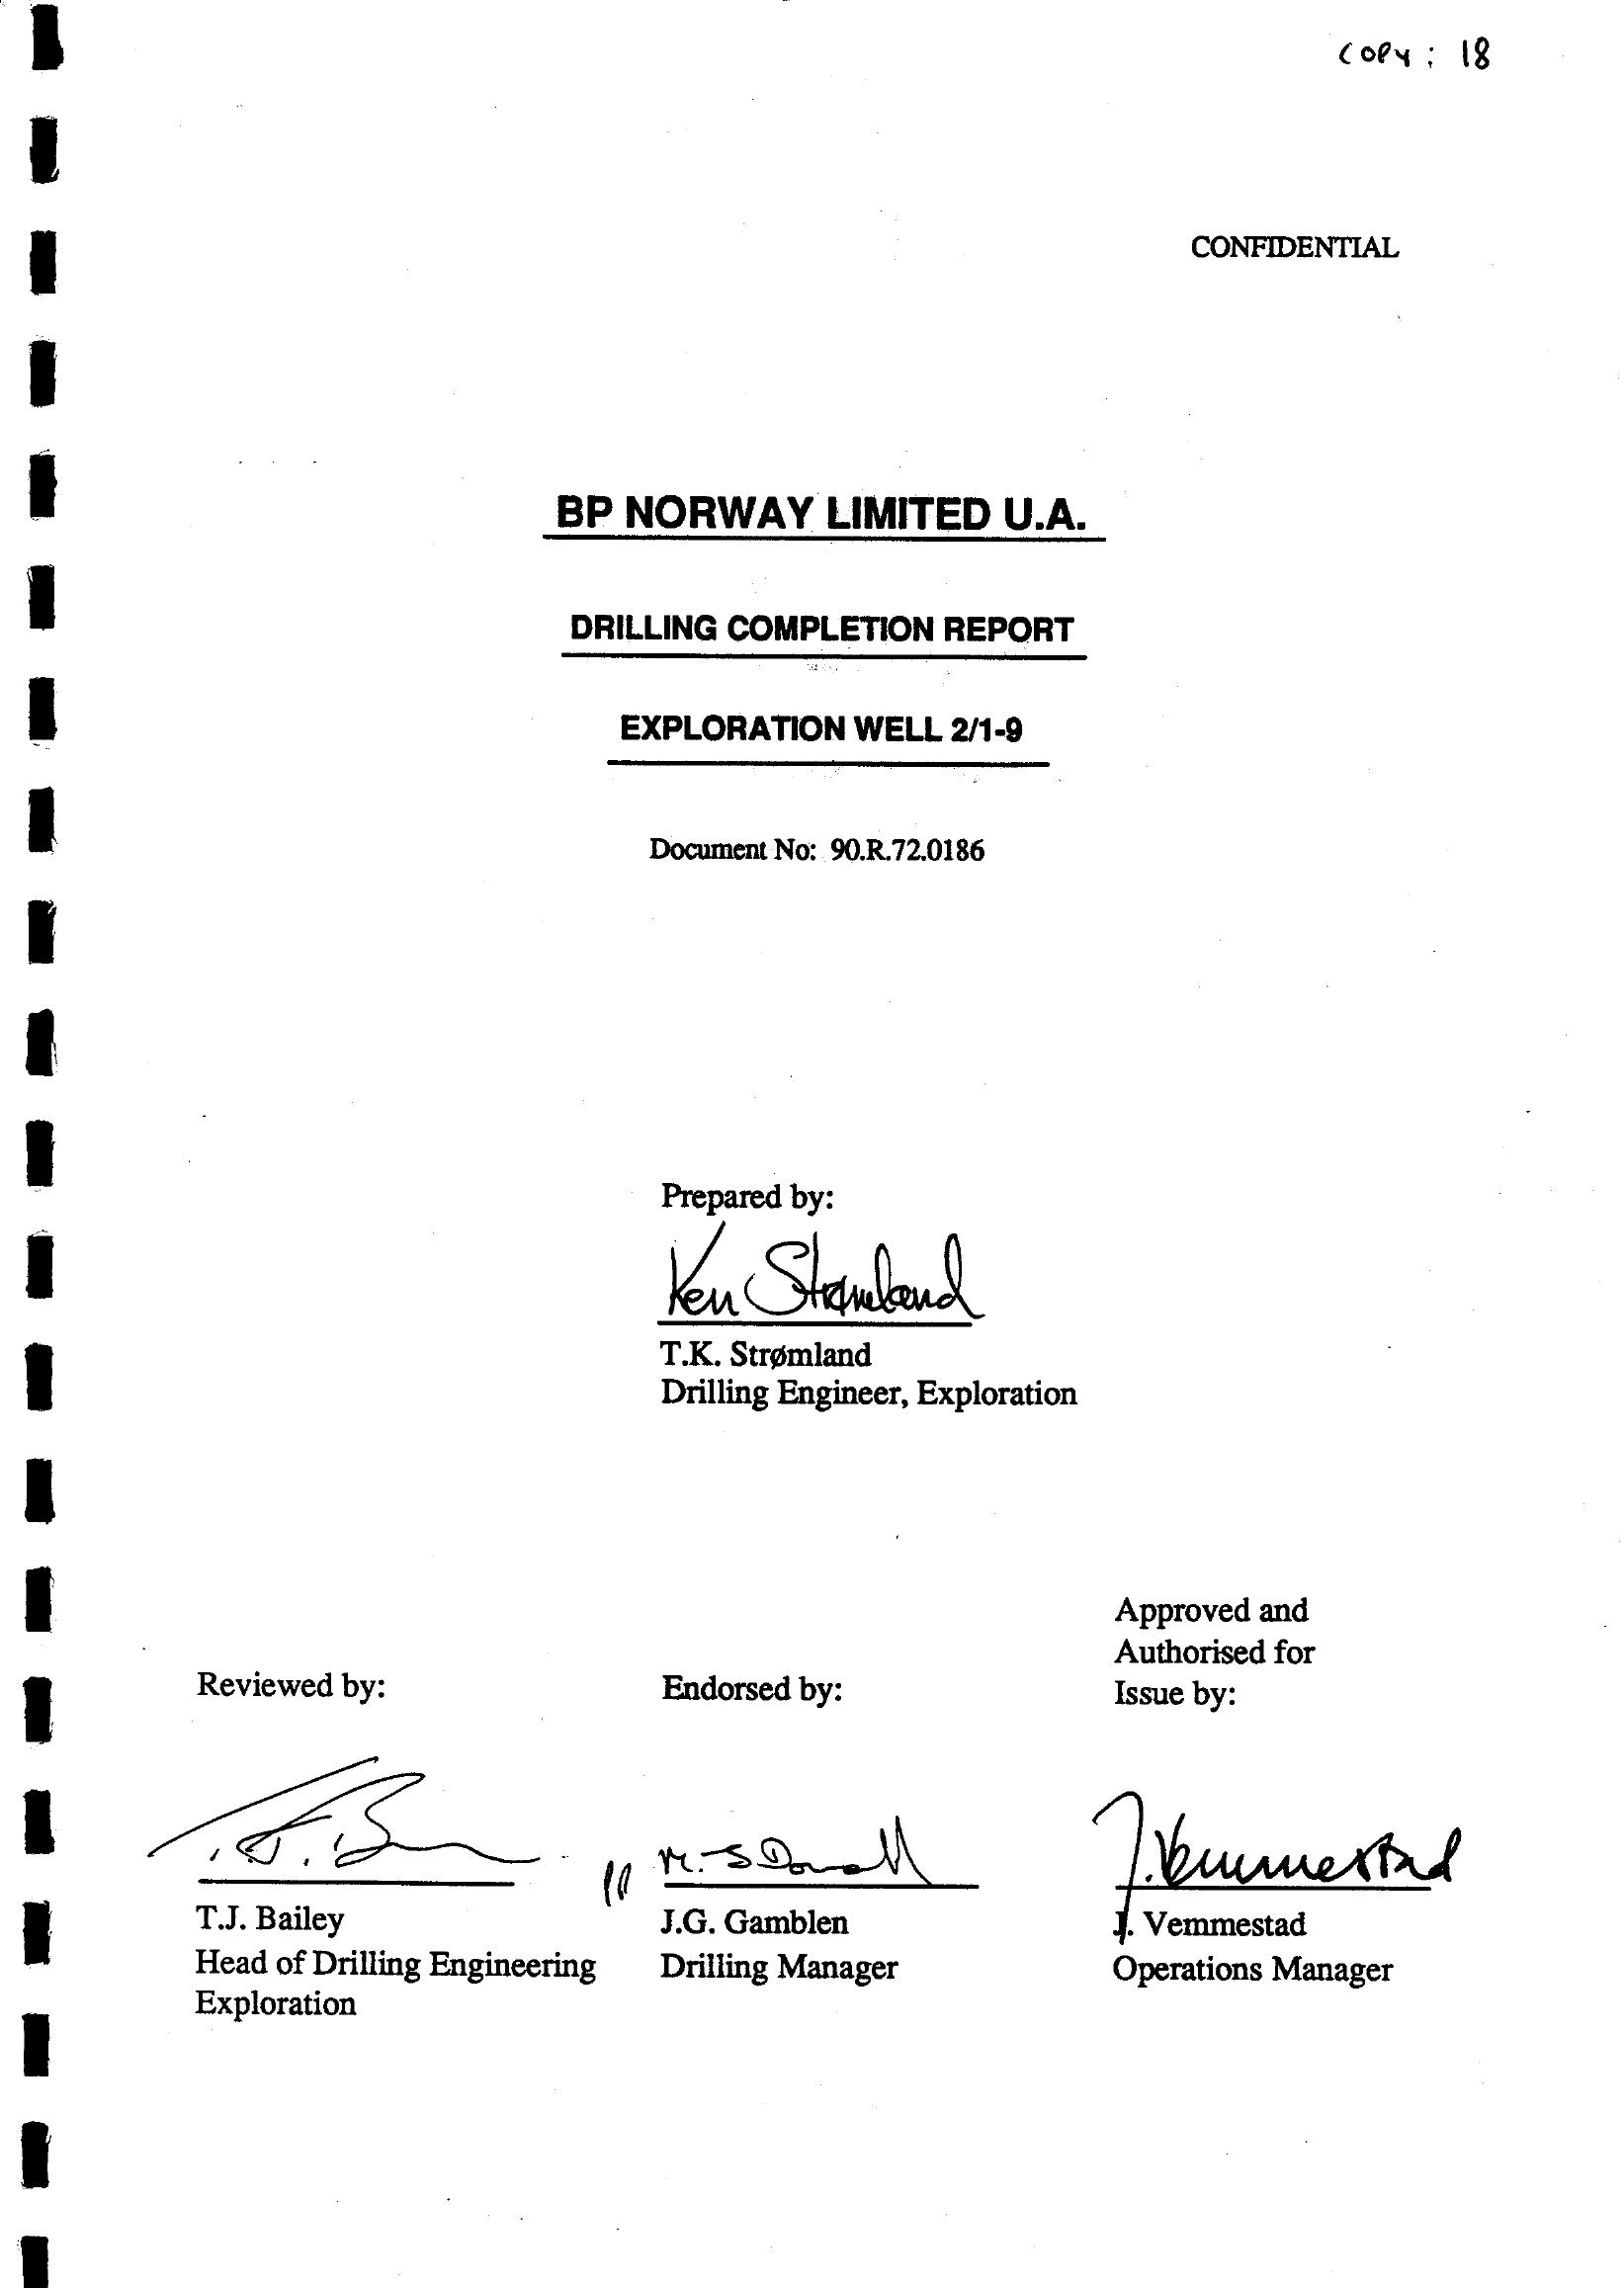text: (455, 450, 1171, 905), (160, 1582, 1359, 1745), (1165, 202, 1422, 286)
undefined: (162, 1752, 1508, 2047), (582, 1144, 1165, 1444)
